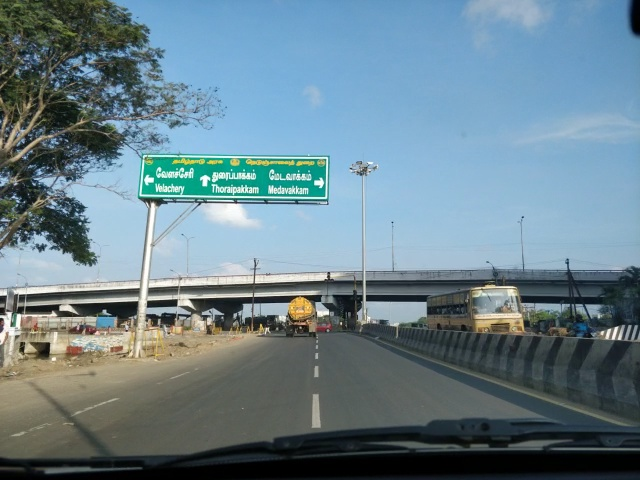auto: (536, 319, 564, 337)
bus: (420, 288, 529, 351), (426, 287, 526, 333)
car: (65, 322, 98, 333), (317, 320, 333, 334)
motorbike: (566, 316, 602, 339)
truck: (289, 299, 313, 336)
